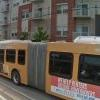Bus: (3, 32, 94, 100)
